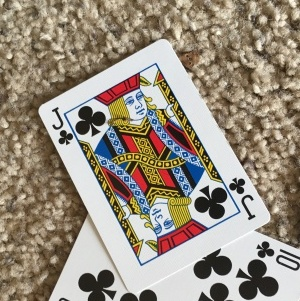card: (37, 38, 263, 263)
